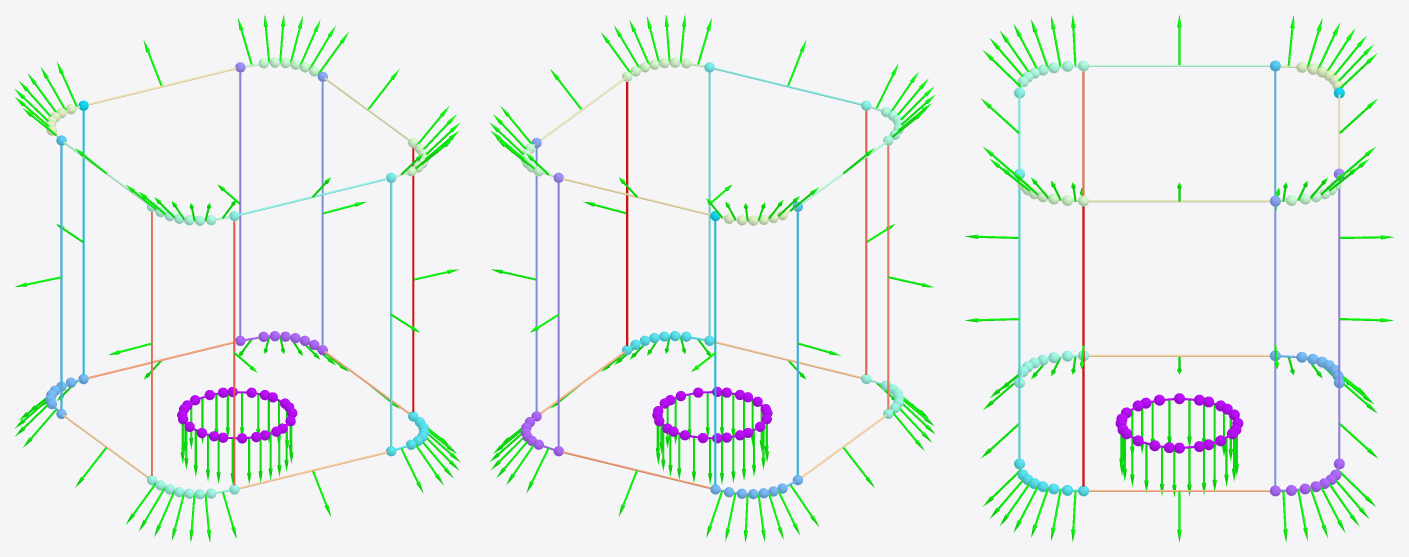
Rendered from onshape_simple_shape.gltf.
3 views of the same model, side by side, from view 1: azimuth 30°, elevation 25°; view 2: azimuth 150°, elevation 25°; view 3: azimuth 270°, elevation 25° (orthographic). The views are drawn at different scales.
Size of the model in its own units: 0.7772 by 0.7481 by 0.7771.
